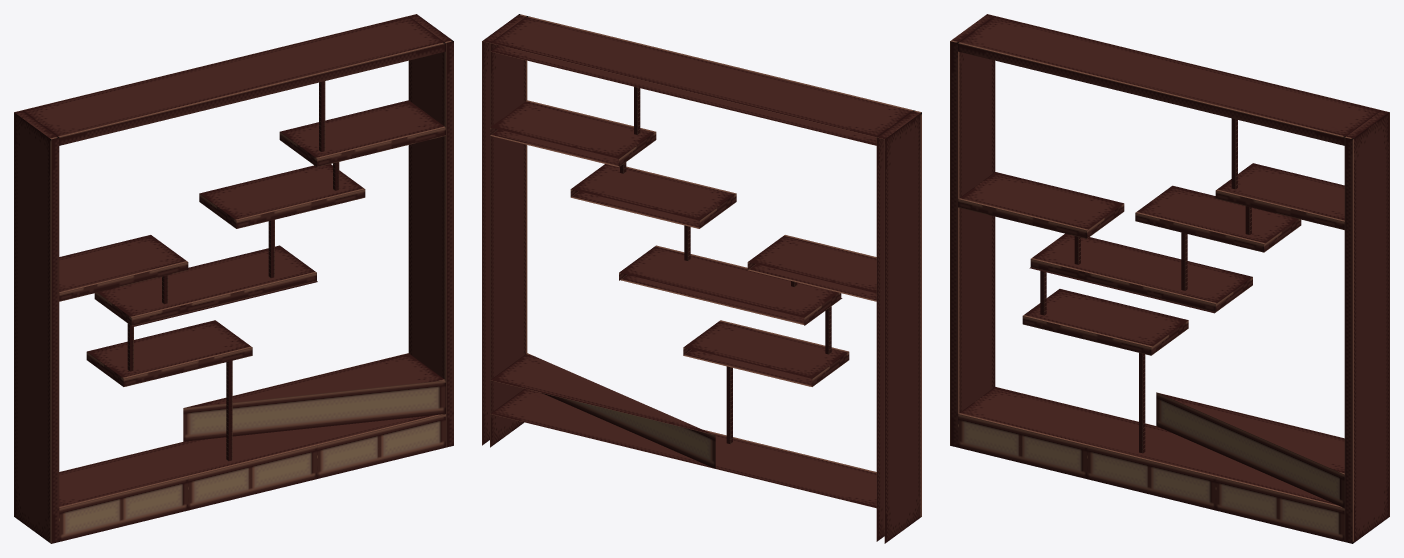
Rendered from wall_shelves.obj.
3 views of the same model, side by side, from view 1: azimuth 30°, elevation 25°; view 2: azimuth 150°, elevation 25°; view 3: azimuth 330°, elevation 25° (orthographic).
Parts seen in each view (by area): view 1: Default; view 2: Default; view 3: Default.
Part boxes in pixels (left/top/right/bottom): Default: left=14, top=14, right=453, bottom=543; Default: left=482, top=14, right=921, bottom=543; Default: left=950, top=14, right=1389, bottom=543.
Size of the model in its own units: 2 by 1.92 by 0.33.
1 material, 1 textured.
